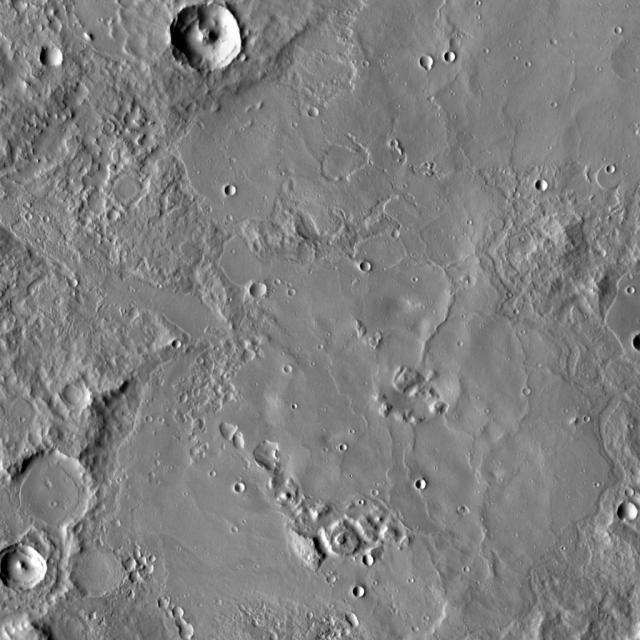crater: (82, 267, 640, 640), (0, 465, 84, 626), (15, 449, 97, 527), (175, 1, 246, 70), (75, 545, 129, 597), (0, 542, 50, 590), (39, 43, 63, 65), (68, 383, 88, 402), (619, 500, 636, 521), (250, 281, 267, 297), (128, 556, 143, 570), (179, 622, 194, 636), (180, 626, 195, 640), (419, 55, 432, 68), (536, 179, 548, 192), (172, 608, 185, 620), (135, 570, 147, 582), (352, 585, 364, 596), (362, 554, 374, 565), (105, 209, 117, 220), (445, 51, 456, 62), (181, 618, 193, 628), (346, 612, 358, 622), (415, 480, 426, 490), (224, 185, 235, 195), (359, 260, 370, 270), (234, 482, 245, 492), (150, 564, 161, 574), (159, 597, 170, 607), (143, 556, 153, 566), (315, 109, 325, 118), (270, 631, 279, 640), (625, 486, 634, 495), (69, 278, 79, 286), (327, 574, 337, 582), (392, 228, 401, 236), (352, 618, 361, 626), (284, 364, 292, 372), (139, 549, 147, 557), (171, 341, 180, 348), (606, 166, 614, 173), (615, 27, 623, 34), (626, 277, 633, 285), (288, 288, 295, 296), (171, 610, 179, 617), (410, 617, 418, 624), (341, 444, 348, 452), (524, 388, 532, 395), (550, 38, 557, 45), (232, 527, 239, 534), (89, 610, 97, 616), (462, 558, 470, 564), (43, 215, 50, 221), (114, 521, 120, 528), (308, 613, 314, 620), (26, 212, 32, 218), (372, 491, 378, 497), (584, 416, 590, 422), (526, 62, 532, 68), (196, 357, 203, 362), (1, 374, 5, 382), (145, 417, 151, 422)
